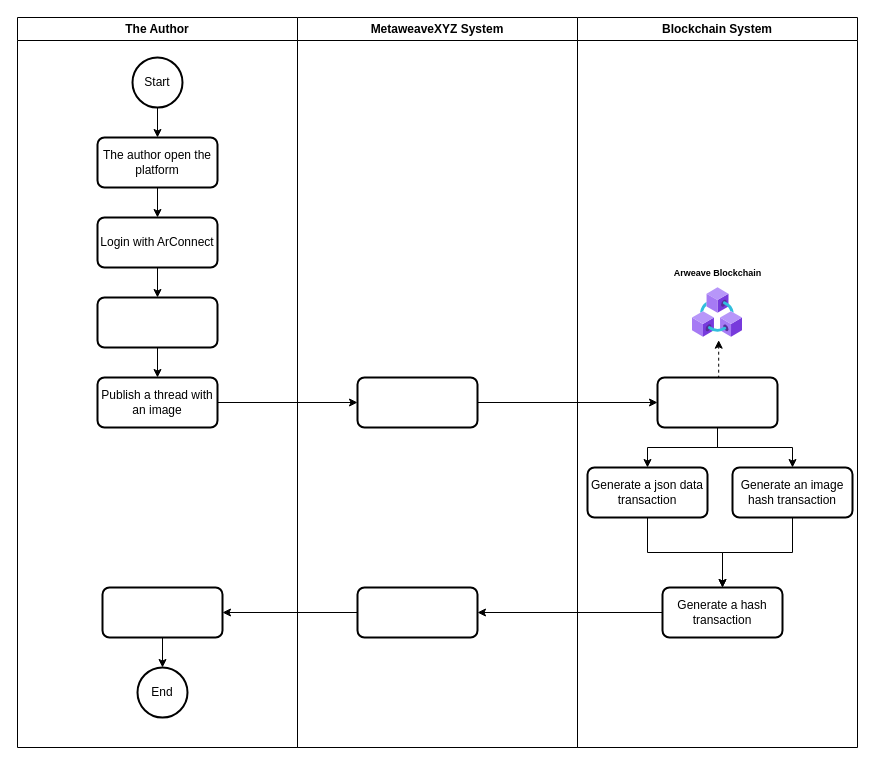
The diagram is 875 pixels wide and 765 high, and some of its shapes have lost their labels. Each missing label, with the centre of its shape:
"Create a thread" goes at (157,322).
"Pay around 0.00005 AR to store the data in Blockchain" goes at (717,402).
"Retrieve the hash transaction" goes at (417,612).
"Store the thread" goes at (417,402).
"View the thread" goes at (162,612).
